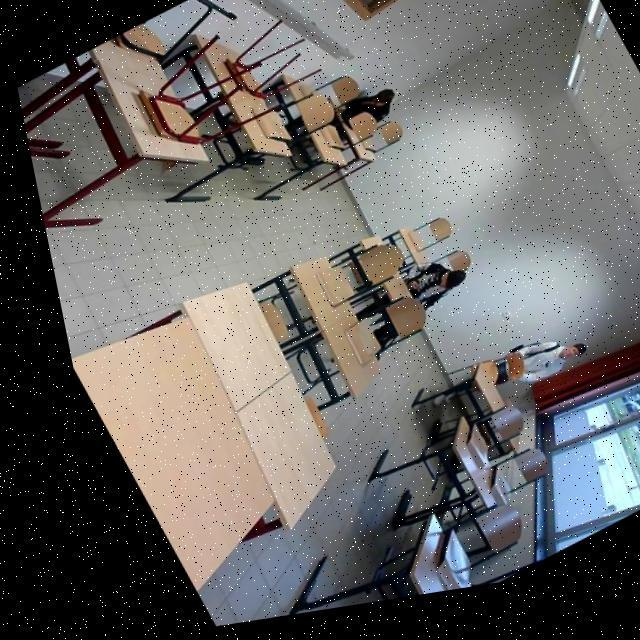phone_use: (340, 88, 400, 149)
